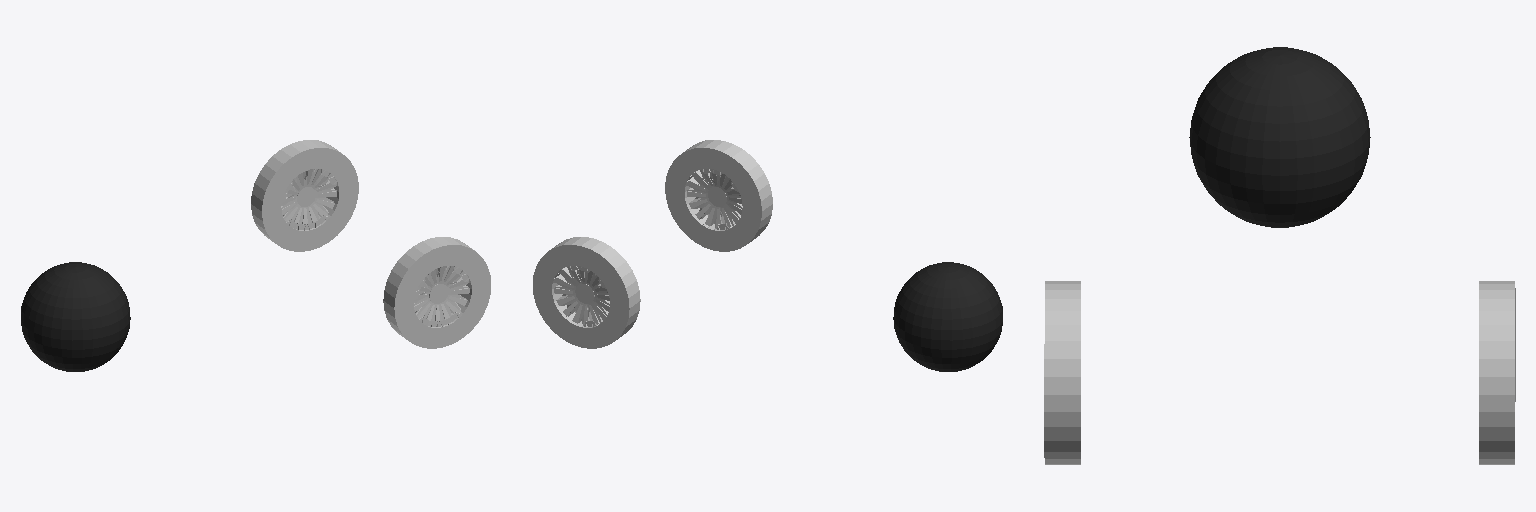
URDF robot description (ai_car1):
<?xml version="1.0"?>
<robot name="ai_car1">


  <link name="base_link"/>

  <!-- ========== Chassis ========== -->
  <link name="chassis">
    <inertial>
      <mass value="30.0"/>
      <inertia ixx="1.73333" ixy="0" ixz="0"
               iyy="4.56667" iyz="0" izz="4.56667"/>
    </inertial>
    <visual>
      <origin xyz="0 0 0" rpy="0 0 3.14159"/>
      <geometry>
        <mesh filename="package://simulator/models/ai_car1/meshes/AIF_body.dae"/>
      </geometry>
    </visual>
    <collision>
      <origin xyz="0 0 0" rpy="0 0 3.14159"/>
      <geometry>
        <mesh filename="package://simulator/models/ai_car1/meshes/AIF_body.dae"/>
      </geometry>
    </collision>
  </link>

  <!-- ========== Left Wheel ========== -->
  <link name="left_wheel">
    <inertial>
      <mass value="7.0"/>
      <inertia ixx="0.04778" ixy="0" ixz="0"
               iyy="0.04778" iyz="0" izz="0.07875"/>
    </inertial>
    <visual>
      <origin xyz="0 0 0" rpy="0 0 1.57"/>
      <geometry>
        <mesh filename="package://simulator/models/ai_car1/meshes/tire.dae" scale="0.0625 0.127 0.127"/>
      </geometry>
    </visual>
    <collision>
      <origin xyz="0 0 0" rpy="0 0 1.57"/>
      <geometry>
        <mesh filename="package://simulator/models/ai_car1/meshes/tire.dae" scale="0.0625 0.127 0.127"/>
      </geometry>
    </collision>
  </link>

  <!-- ========== Right Wheel ========== -->
  <link name="right_wheel">
    <inertial>
      <mass value="7.0"/>
      <inertia ixx="0.04778" ixy="0" ixz="0"
               iyy="0.04778" iyz="0" izz="0.07875"/>
    </inertial>
    <visual>
      <origin xyz="0 0 0" rpy="0 0 1.57"/>
      <geometry>
      <mesh filename="package://simulator/models/ai_car1/meshes/tire.dae" scale="0.0625 0.127 0.127"/>
      </geometry>
    </visual>
    <collision>
      <origin xyz="0 0 0" rpy="0 0 1.57"/>
      <geometry>
      <mesh filename="package://simulator/models/ai_car1/meshes/tire.dae" scale="0.0625 0.127 0.127"/>
      </geometry>
    </collision>
  </link>

  <!-- ========== Caster Yaw Link ========== -->
  <link name="caster_yaw"/>

  <!-- ========== Caster Wheel (Simple Sphere) ========== -->
  <link name="caster">
    <inertial>
      <mass value="2.0"/>
      <inertia ixx="0.0016" ixy="0" ixz="0"
               iyy="0.0016" iyz="0" izz="0.0016"/>
    </inertial>
    <visual>
      <origin xyz="0 0 0" rpy="0 0 0"/>
      <geometry>
        <sphere radius="0.125"/>
      </geometry>
      <material name="gray">
        <color rgba="0.2 0.2 0.2 1"/>
      </material>
    </visual>
    <collision>
      <origin xyz="0 0 0" rpy="0 0 0"/>
      <geometry>
        <sphere radius="0.125"/>
      </geometry>
    </collision>
  </link>

  <!-- ========== Joints ========== -->
  <joint name="base_to_chassis" type="fixed">
    <parent link="base_link"/>
    <child link="chassis"/>
    <origin xyz="0 0 0.127" rpy="0 0 0"/>
  </joint>

  <joint name="left_wheel_joint" type="revolute">
    <parent link="chassis"/>
    <child link="left_wheel"/>
    <origin xyz="0 0.3 0" rpy="0 0 0"/>
    <axis xyz="0 1 0"/>
    <limit lower="-1e9" upper="1e9" effort="84.0" velocity="100.0"/>
  </joint>

  <joint name="right_wheel_joint" type="revolute">
    <parent link="chassis"/>
    <child link="right_wheel"/>
    <origin xyz="0 -0.3 0" rpy="0 0 0"/>
    <axis xyz="0 1 0"/>
    <limit lower="-1e9" upper="1e9" effort="84.0" velocity="100.0"/>
  </joint>

  <joint name="caster_yaw_wheel" type="revolute">
    <parent link="chassis"/>
    <child link="caster_yaw"/>
    <origin xyz="-0.733 0 -0.002" rpy="0 0 1.57"/>
    <axis xyz="0 0 1"/>
    <limit lower="-0.26" upper="0.26" effort="1000000.0" velocity="10.0"/>
    <dynamics damping="10.0" friction="0.0"/>
  </joint>

  <joint name="caster_pitch_joint" type="revolute">
    <parent link="caster_yaw"/>
    <child link="caster"/>
    <origin xyz="0 0.04 0" rpy="0 0 0"/>
    <axis xyz="0 1 0"/>
    <limit lower="-1e9" upper="1e9" effort="1.0" velocity="10.0"/>
    <dynamics damping="0.01" friction="0.0"/>
  </joint>

  <!-- ========== IMU ========== -->
  <link name="imu_link"/>

  <joint name="imu_joint" type="fixed">
    <parent link="chassis"/>
    <child link="imu_link"/>
    <origin xyz="-0.032 0 0.068" rpy="0 0 0"/>
  </joint>

  <!-- ========== Camera ========== -->
  <link name="camera_link"/>

  <joint name="camera_joint" type="fixed">
    <parent link="chassis"/>
    <child link="camera_link"/>
    <origin xyz="-0.008 0.0325 0.4277" rpy="0.00867605 -0.02870550 0.00624156"/>
  </joint>

  <link name="camera_rgb_link"/>

  <joint name="camera_rgb_joint" type="fixed">
    <parent link="camera_link"/>
    <child link="camera_rgb_link"/>
    <origin xyz="0 0 0" rpy="0 0 0"/>
  </joint>

  <link name="camera_depth_link"/>

  <joint name="camera_depth_joint" type="fixed">
    <parent link="camera_link"/>
    <child link="camera_depth_link"/>
    <origin xyz="0 0 0" rpy="0 0 0"/>
  </joint>

  <!-- ========== GPS ========== -->
  <link name="gps_link"/>

  <joint name="gps_joint" type="fixed">
    <parent link="chassis"/>
    <child link="gps_link"/>
    <origin xyz="0 0 0" rpy="0 0 0"/>
  </joint>

  <ros2_control name="gz_ros2_control" type="system">
    <hardware>
      <plugin>gz_ros2_control/GazeboSimSystem</plugin>
    </hardware>
    <joint name="caster_yaw_wheel">
      <command_interface name="position">
        <param name="min">-0.26</param>
        <param name="max">0.26</param>
      </command_interface>
      <state_interface name="position"/>
      <state_interface name="velocity"/>
    </joint>
  </ros2_control>

</robot>

--- What the picture shows (computed from the rendered views, not written in the file) ---
3 views of the same robot in one strip: view 1: azimuth 30°, elevation 25°; view 2: azimuth 150°, elevation 25°; view 3: azimuth 270°, elevation 25° (orthographic).
Robot: ai_car1 — 11 links, 10 joints (4 revolute, 6 fixed); root link base_link; default pose: all joints at 0.
Links seen in each view (by area): view 1: caster, left_wheel, right_wheel; view 2: caster, right_wheel, left_wheel; view 3: caster, left_wheel, right_wheel.
Link boxes in pixels (x1,y1,x2,y2): caster: (21, 262, 130, 371); left_wheel: (251, 140, 358, 251); right_wheel: (383, 237, 490, 348); caster: (893, 262, 1002, 371); right_wheel: (665, 140, 772, 251); left_wheel: (533, 237, 640, 348); caster: (1189, 47, 1370, 227); left_wheel: (1479, 281, 1515, 464); right_wheel: (1044, 281, 1080, 464).
Bounding box of the posed robot: 1.02 × 0.6502 × 0.254 m (x, y, z).
2 mesh visuals loaded from 2 distinct referenced files (1 Collada DAE); not drawn: 1 (reference not matched to a file when rendering).
